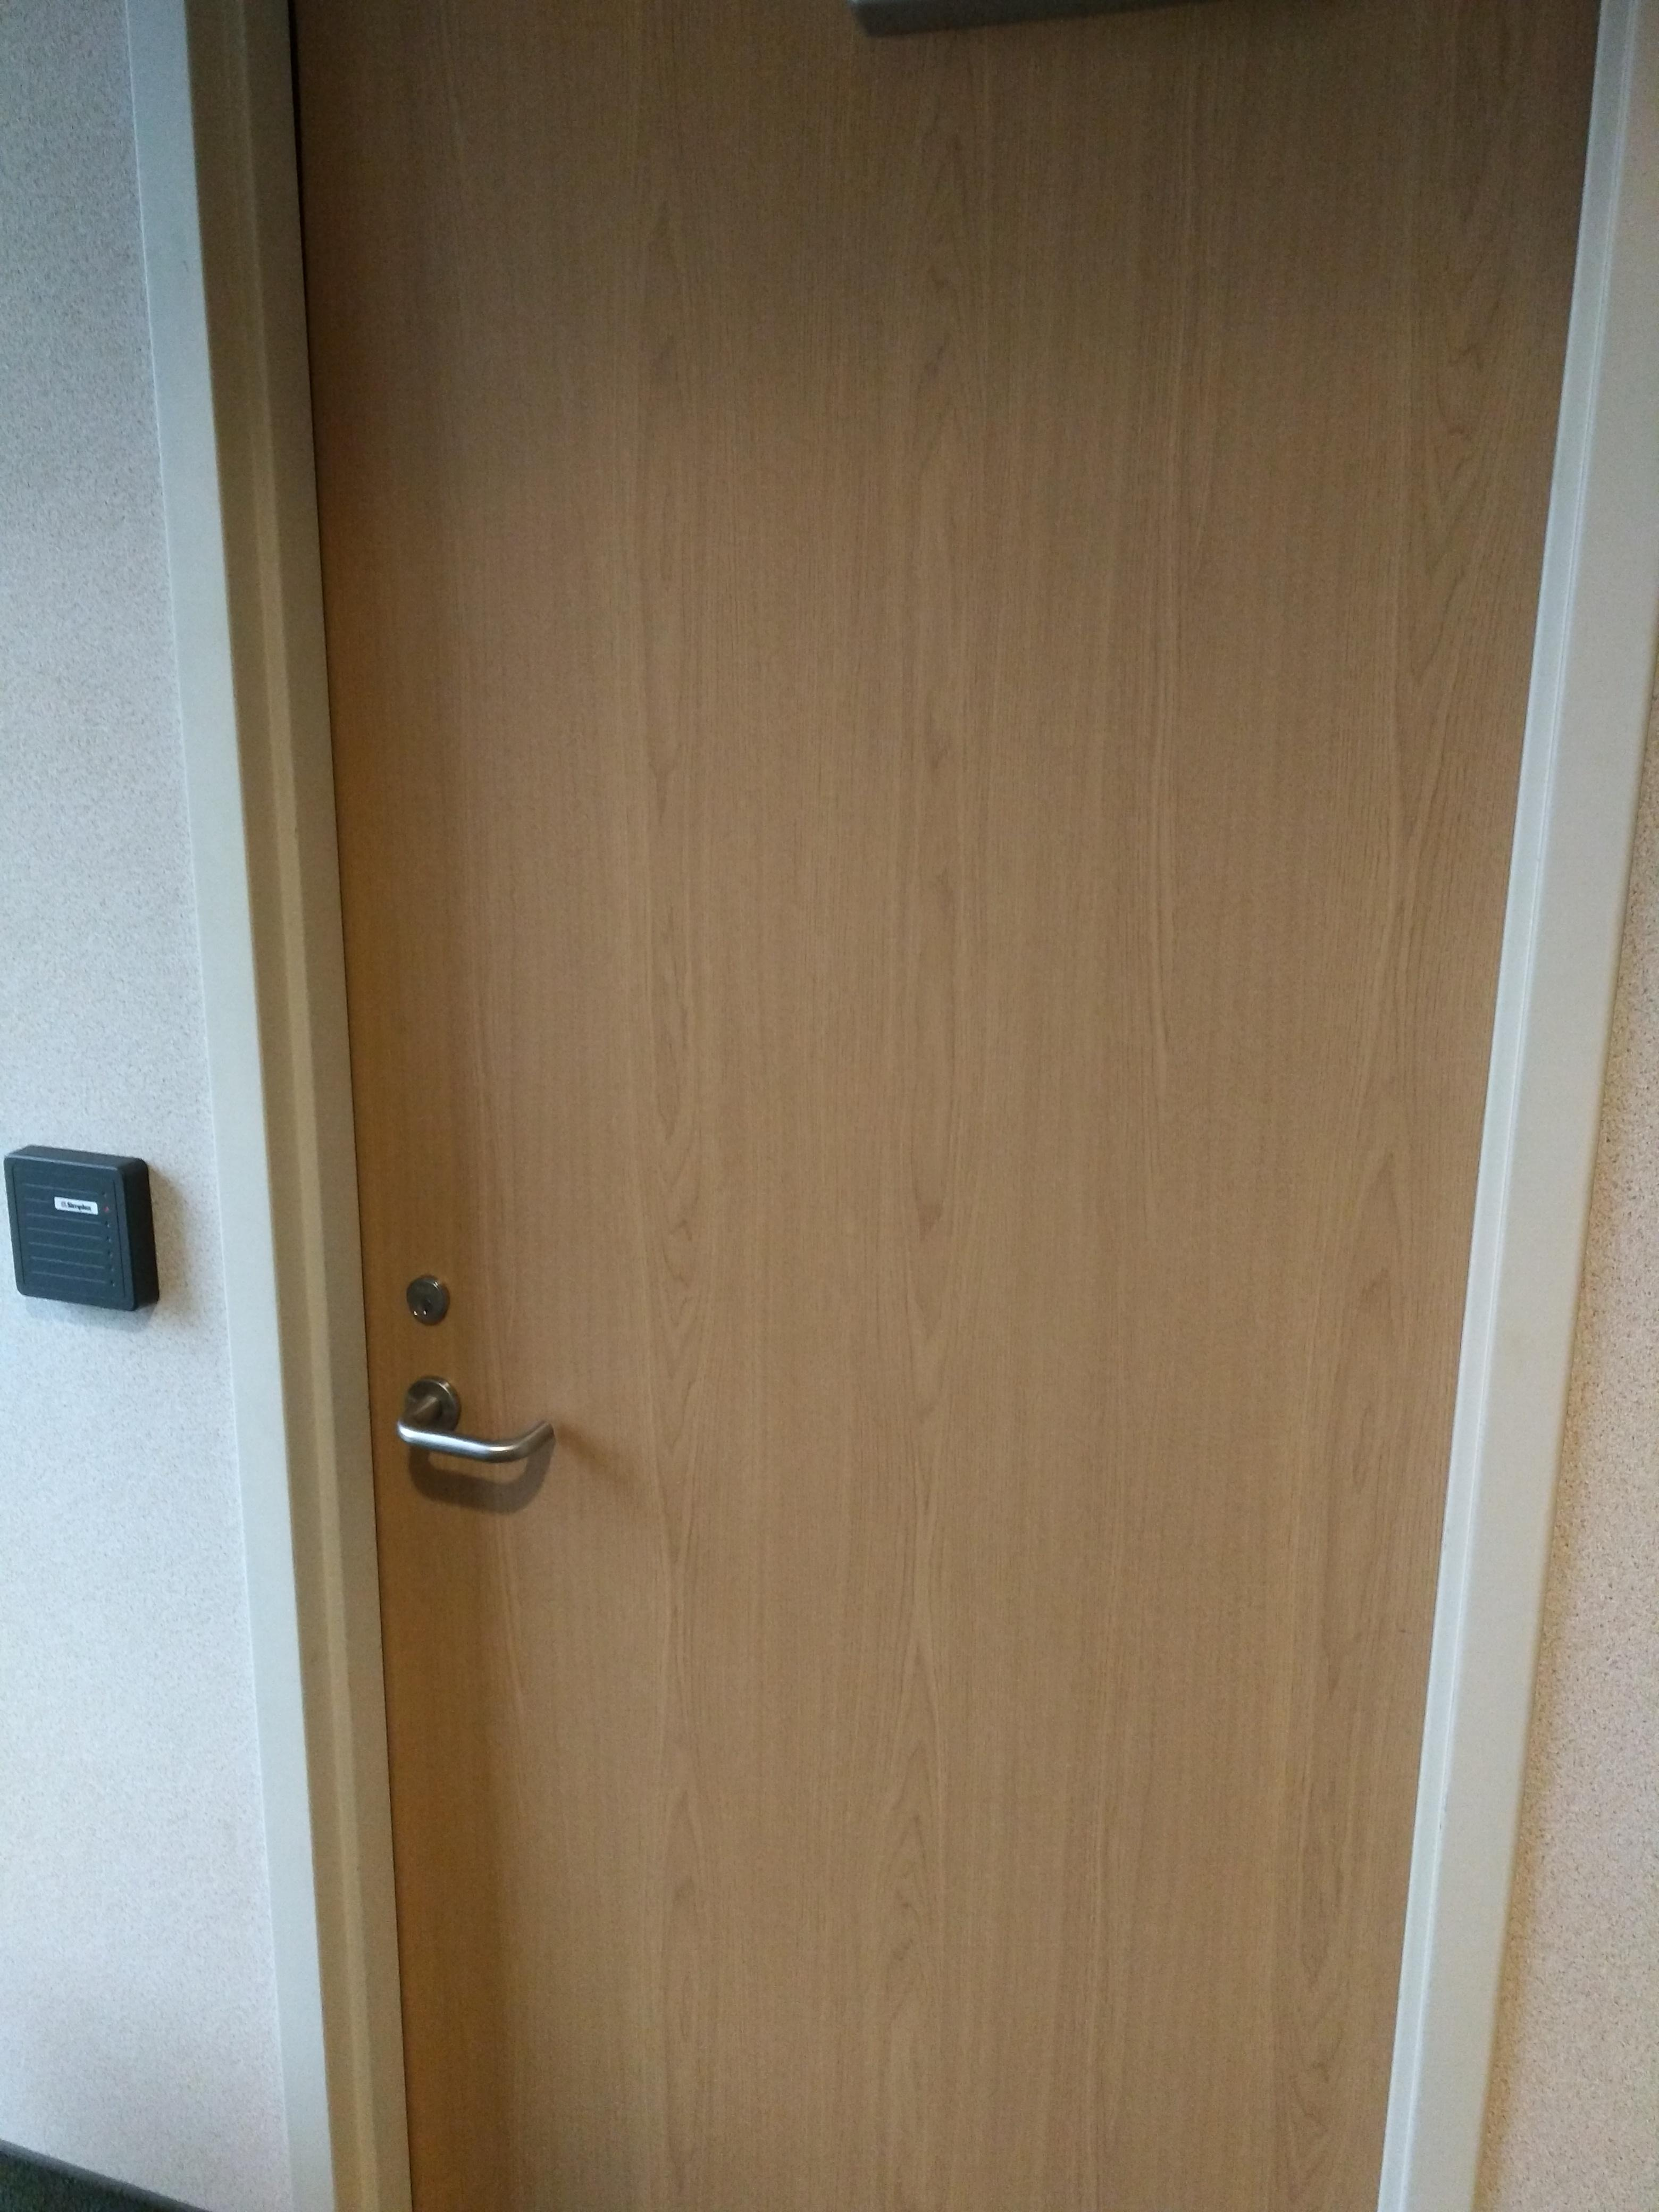door: (242, 7, 1448, 2174)
